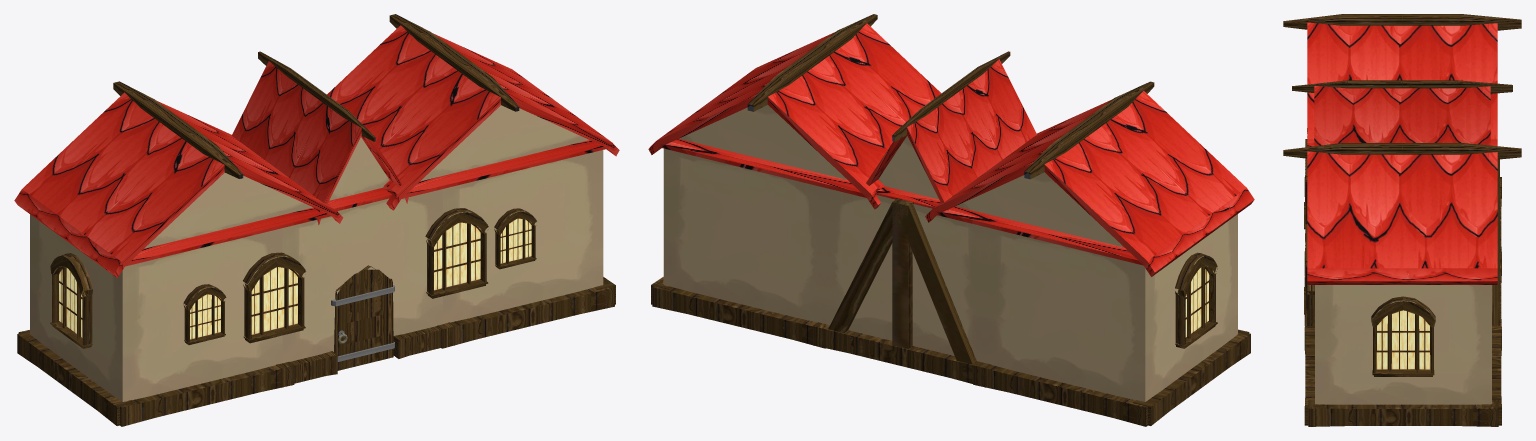
The model's file is house_chesburg_4.glb.
3 views of the same model, side by side, from view 1: azimuth 30°, elevation 25°; view 2: azimuth 150°, elevation 25°; view 3: azimuth 270°, elevation 25° (orthographic). The views are drawn at different scales.
Visible parts, largest first — view 1: Cube.040, Cube.030, Cube.036, Cube.037, Cube.002, Cube.041, Cube.034, Object_6.017, Object_6.018, deur_hout_0.004, Object_6.014, Object_6.020 (+2 smaller); view 2: Cube.040, Cube.030, Cube.033, Cube.039, Cube.038, Cube.041, Cube.034, Object_6.014; view 3: Cube.030, Cube.035, Cube.040, Cube.041, Object_6.016, Cube.033, Cube.037, Cube.039, Object_6.020, Object_6.018, Object_6.017.
Boxes of the visible parts, bbox=[...] form: Cube.040: bbox=[14, 81, 343, 277]; Cube.030: bbox=[327, 14, 619, 210]; Cube.036: bbox=[111, 228, 294, 426]; Cube.037: bbox=[437, 150, 614, 348]; Cube.002: bbox=[276, 189, 454, 387]; Cube.041: bbox=[231, 51, 408, 224]; Cube.034: bbox=[17, 214, 135, 425]; Object_6.017: bbox=[243, 252, 305, 343]; Object_6.018: bbox=[425, 208, 488, 298]; deur_hout_0.004: bbox=[334, 265, 393, 370]; Object_6.014: bbox=[50, 253, 92, 348]; Object_6.020: bbox=[494, 208, 536, 269]; Cube.040: bbox=[925, 81, 1254, 276]; Cube.030: bbox=[648, 14, 941, 209]; Cube.033: bbox=[813, 187, 991, 387]; Cube.039: bbox=[652, 148, 825, 348]; Cube.038: bbox=[973, 227, 1156, 426]; Cube.041: bbox=[866, 51, 1036, 210]; Cube.034: bbox=[1132, 214, 1250, 425]; Object_6.014: bbox=[1175, 252, 1217, 348]; Cube.030: bbox=[1283, 143, 1521, 284]; Cube.035: bbox=[1308, 285, 1498, 426]; Cube.040: bbox=[1283, 14, 1521, 146]; Cube.041: bbox=[1292, 80, 1512, 146]; Object_6.016: bbox=[1371, 296, 1435, 376]; Cube.033: bbox=[1492, 159, 1501, 350]; Cube.037: bbox=[1304, 326, 1324, 425]; Cube.039: bbox=[1481, 332, 1501, 425]; Object_6.020: bbox=[1306, 273, 1314, 327]; Object_6.018: bbox=[1304, 224, 1314, 315]; Object_6.017: bbox=[1304, 139, 1307, 229].
Size of what is drawn, in the model's own units: 14.65 by 6.63 by 6.26.
5 materials, 5 textured.
